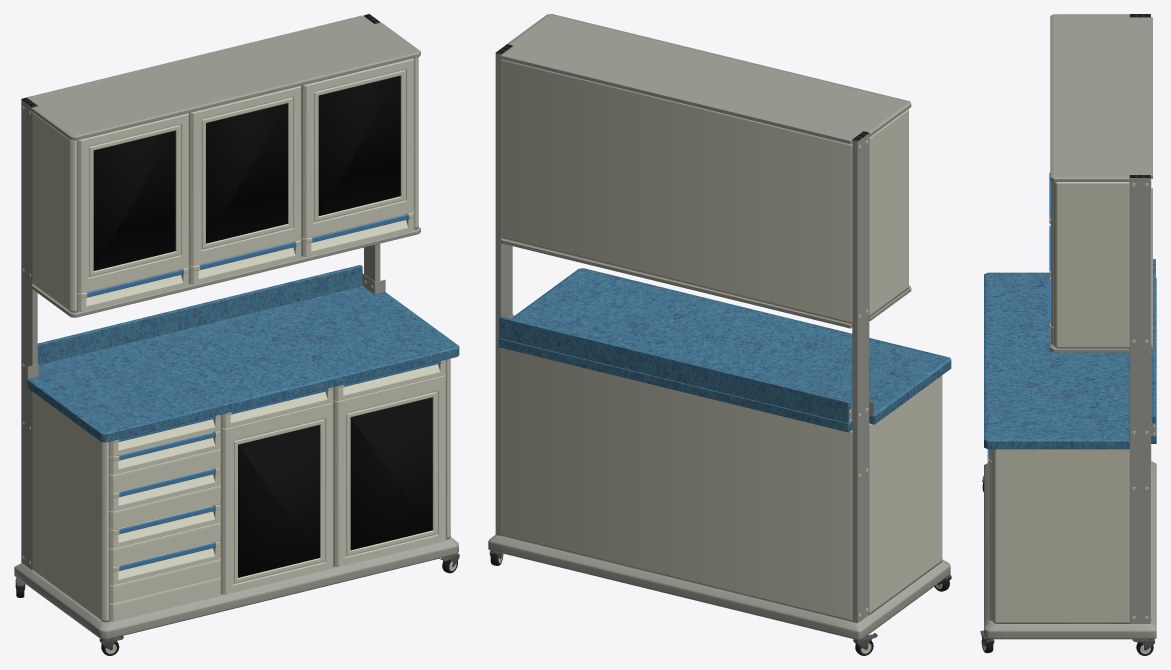
The picture shows the model from 3 angles, left to right: view 1: azimuth 30°, elevation 25°; view 2: azimuth 150°, elevation 25°; view 3: azimuth 270°, elevation 25°; orthographic projection. The views are drawn at different scales.
Visible parts, largest first — view 1: Archmodels70_017_01, Archmodels70_017_02, Archmodels70_017_03, Archmodels70_017_08, Archmodels70_017_04; view 2: Archmodels70_017_01, Archmodels70_017_08, Archmodels70_017_03; view 3: Archmodels70_017_01, Archmodels70_017_08, Archmodels70_017_03, Archmodels70_017_10, Archmodels70_017_04.
Part boxes in pixels (<box>): Archmodels70_017_01: <box>22,57,456,653</box>; Archmodels70_017_02: <box>93,75,432,577</box>; Archmodels70_017_03: <box>27,265,459,442</box>; Archmodels70_017_08: <box>14,15,458,639</box>; Archmodels70_017_04: <box>87,214,440,570</box>; Archmodels70_017_01: <box>498,59,942,653</box>; Archmodels70_017_08: <box>488,14,950,640</box>; Archmodels70_017_03: <box>498,268,951,432</box>; Archmodels70_017_01: <box>982,172,1155,653</box>; Archmodels70_017_08: <box>984,14,1156,639</box>; Archmodels70_017_03: <box>984,259,1156,449</box>; Archmodels70_017_10: <box>981,14,1153,655</box>; Archmodels70_017_04: <box>987,173,1050,459</box>.
Size of the model in its own units: 60.28 by 78.03 by 26.12.
